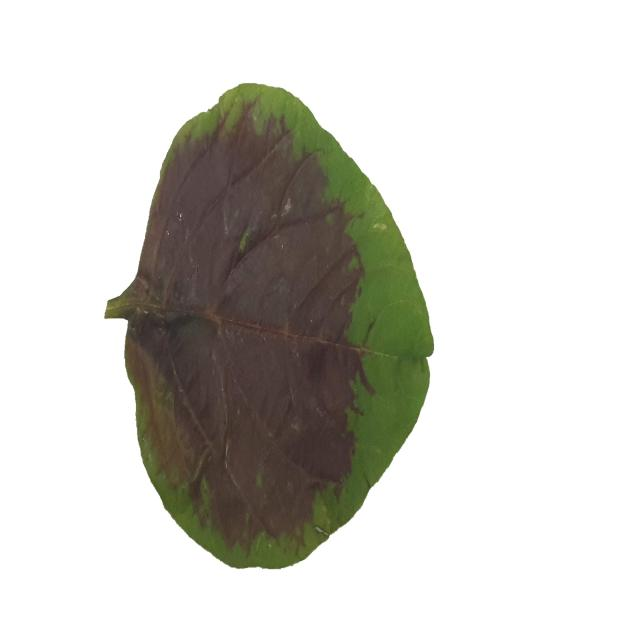Medicinal-Arive Dantu: (102, 79, 438, 571)
